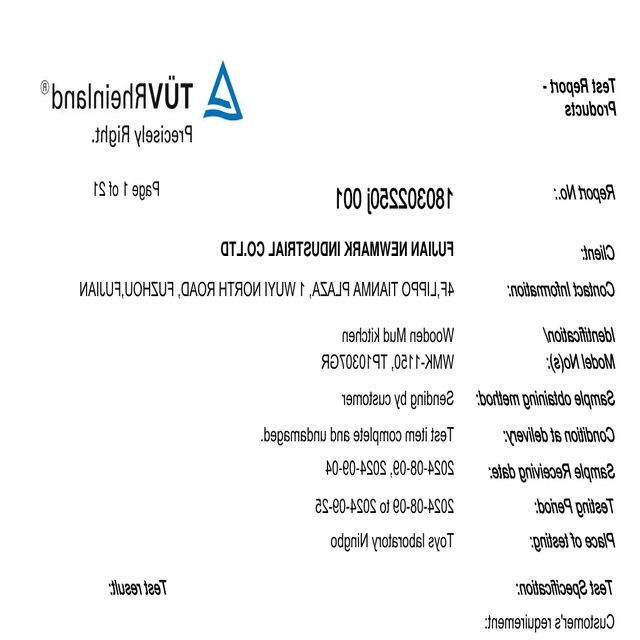tuv_rheinland: (38, 60, 246, 124)
